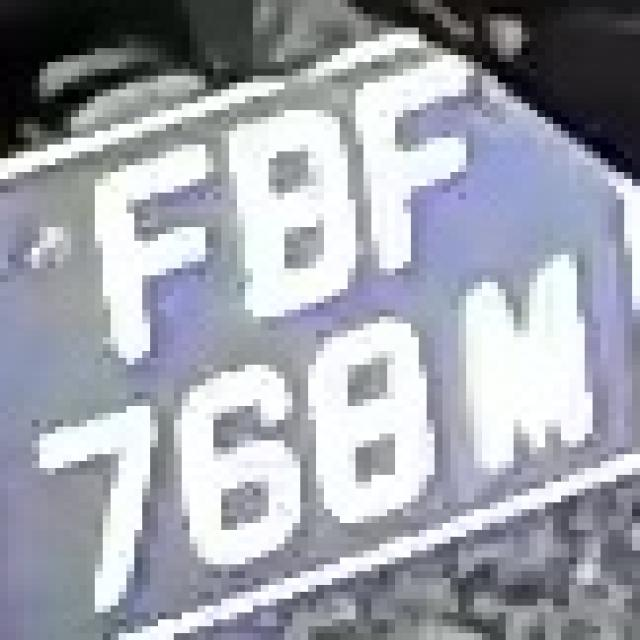6: (174, 344, 316, 578)
7: (8, 379, 166, 633)
8: (292, 310, 450, 550)
B: (198, 83, 372, 330)
F: (332, 42, 498, 262), (71, 124, 206, 365)
M: (442, 241, 616, 488)
